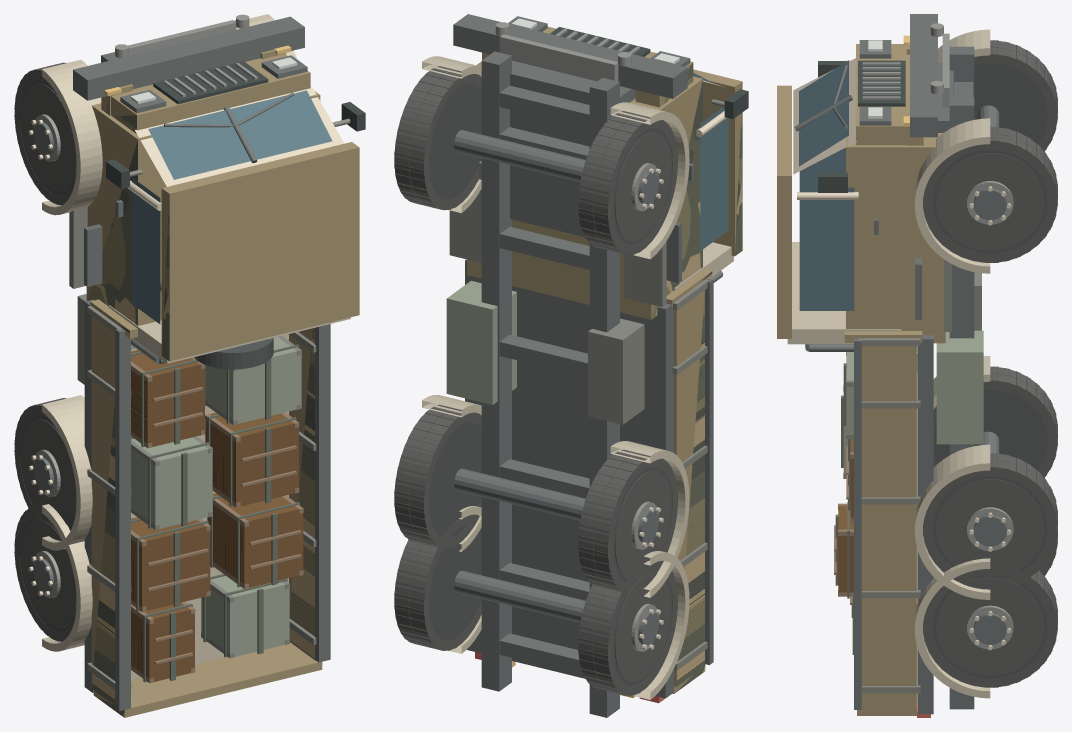
The model's file is supply-0.glb.
The picture shows the model from 3 angles, left to right: view 1: azimuth 30°, elevation 25°; view 2: azimuth 150°, elevation 25°; view 3: azimuth 270°, elevation 25°; orthographic projection. The views are drawn at different scales.
Visible parts, largest first — view 1: world_Desert_Camouflage_PBR, world_Blackened_Chassis, world_Painted_Sand_Steel, world_Armored_Glass, cargo_stack_3_Wooden_Crate_PBR, cargo_stack_5_Wooden_Crate_PBR, cargo_stack_4_Olive_Equipment, cargo_stack_2_Wooden_Crate_PBR, cargo_stack_1_Olive_Equipment, cargo_stack_6_Wooden_Crate_PBR, cargo_stack_7_Olive_Equipment, wheel_FRONT_L_Deep_Tire_Tread (+21 smaller); view 2: world_Blackened_Chassis, world_Desert_Camouflage_PBR, world_Painted_Sand_Steel, world_Steel_Bars, wheel_FRONT_L_Deep_Tire_Tread, wheel_MID_L_Deep_Tire_Tread, wheel_REAR_L_Deep_Tire_Tread, world_Olive_Equipment, wheel_FRONT_R_Deep_Tire_Tread, wheel_MID_R_Deep_Tire_Tread, wheel_REAR_R_Deep_Tire_Tread, wheel_FRONT_R_Tire_Rubber (+8 smaller); view 3: world_Desert_Camouflage_PBR, world_Blackened_Chassis, world_Painted_Sand_Steel, wheel_FRONT_R_Deep_Tire_Tread, world_Armored_Glass, wheel_MID_R_Deep_Tire_Tread, wheel_REAR_R_Deep_Tire_Tread, world_Olive_Equipment, wheel_FRONT_L_Tire_Rubber, wheel_MID_L_Tire_Rubber, world_Steel_Bars, wheel_MID_L_Deep_Tire_Tread (+16 smaller).
Boxes of the visible parts, <box> form: world_Desert_Camouflage_PBR: <box>86,49,359,717</box>; world_Blackened_Chassis: <box>73,16,330,711</box>; world_Painted_Sand_Steel: <box>42,14,350,679</box>; world_Armored_Glass: <box>132,90,332,324</box>; cargo_stack_3_Wooden_Crate_PBR: <box>207,493,303,587</box>; cargo_stack_5_Wooden_Crate_PBR: <box>205,412,298,506</box>; cargo_stack_4_Olive_Equipment: <box>131,436,212,528</box>; cargo_stack_2_Wooden_Crate_PBR: <box>131,517,210,610</box>; cargo_stack_1_Olive_Equipment: <box>201,572,289,656</box>; cargo_stack_6_Wooden_Crate_PBR: <box>131,350,204,446</box>; cargo_stack_7_Olive_Equipment: <box>205,337,301,423</box>; wheel_FRONT_L_Deep_Tire_Tread: <box>14,62,76,205</box>; world_Blackened_Chassis: <box>453,14,723,717</box>; world_Desert_Camouflage_PBR: <box>467,26,742,693</box>; world_Painted_Sand_Steel: <box>422,56,733,699</box>; world_Steel_Bars: <box>449,99,724,670</box>; wheel_FRONT_L_Deep_Tire_Tread: <box>578,111,677,254</box>; wheel_MID_L_Deep_Tire_Tread: <box>578,449,677,593</box>; wheel_REAR_L_Deep_Tire_Tread: <box>578,560,677,695</box>; world_Olive_Equipment: <box>446,280,516,404</box>; wheel_FRONT_R_Deep_Tire_Tread: <box>394,66,481,210</box>; wheel_MID_R_Deep_Tire_Tread: <box>394,404,481,548</box>; wheel_REAR_R_Deep_Tire_Tread: <box>394,514,481,650</box>; wheel_FRONT_R_Tire_Rubber: <box>429,83,481,199</box>; world_Desert_Camouflage_PBR: <box>777,43,945,715</box>; world_Blackened_Chassis: <box>794,14,999,714</box>; world_Painted_Sand_Steel: <box>787,29,990,705</box>; wheel_FRONT_R_Deep_Tire_Tread: <box>923,126,1057,262</box>; world_Armored_Glass: <box>799,60,854,310</box>; wheel_MID_R_Deep_Tire_Tread: <box>923,453,1057,584</box>; wheel_REAR_R_Deep_Tire_Tread: <box>923,570,1057,687</box>; world_Olive_Equipment: <box>916,330,983,444</box>; wheel_FRONT_L_Tire_Rubber: <box>974,63,1047,144</box>; wheel_MID_L_Tire_Rubber: <box>933,389,1047,470</box>; world_Steel_Bars: <box>858,259,981,693</box>; wheel_MID_L_Deep_Tire_Tread: <box>933,366,1057,477</box>.
Size of the model in its own units: 3.11 by 7.82 by 3.18.
Materials: 17 (2 with a texture image).
